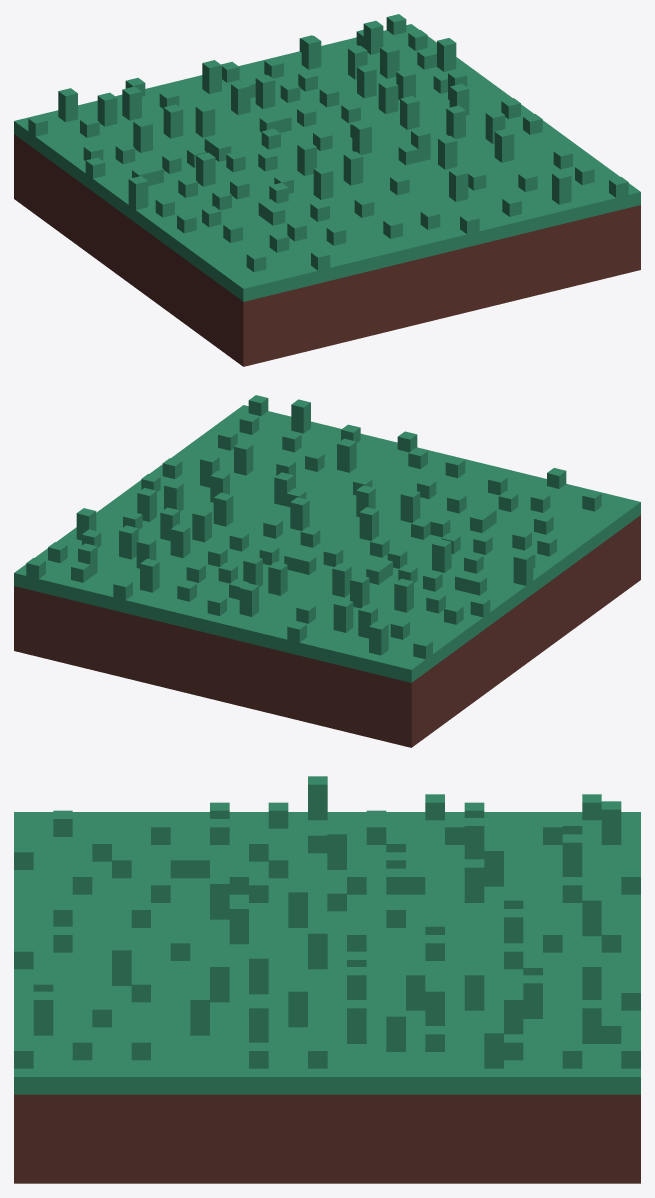
The model's file is grass_plain.gltf.
3 renders of one model, top to bottom at view 1: azimuth 30°, elevation 25°; view 2: azimuth 150°, elevation 25°; view 3: azimuth 270°, elevation 25°, orthographic. The views are drawn at different scales.
Bounding box in the file's own units: 32 × 8 × 32.
Materials: 1 (1 with a texture image).
